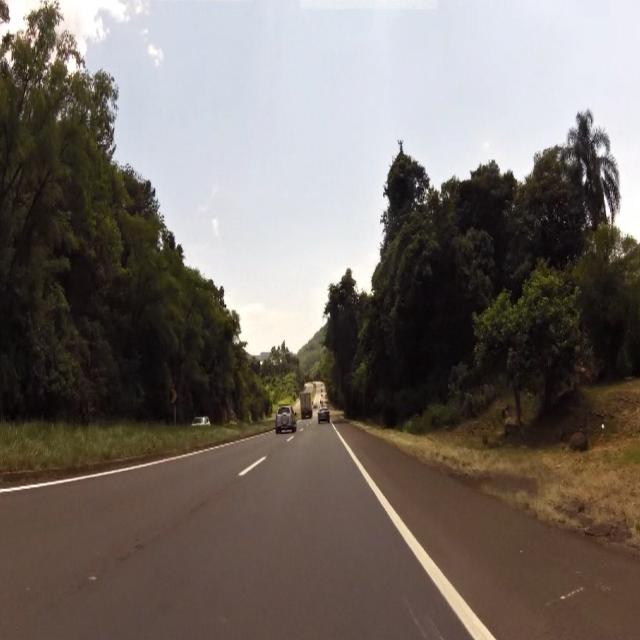Del: (170, 388, 177, 403)
